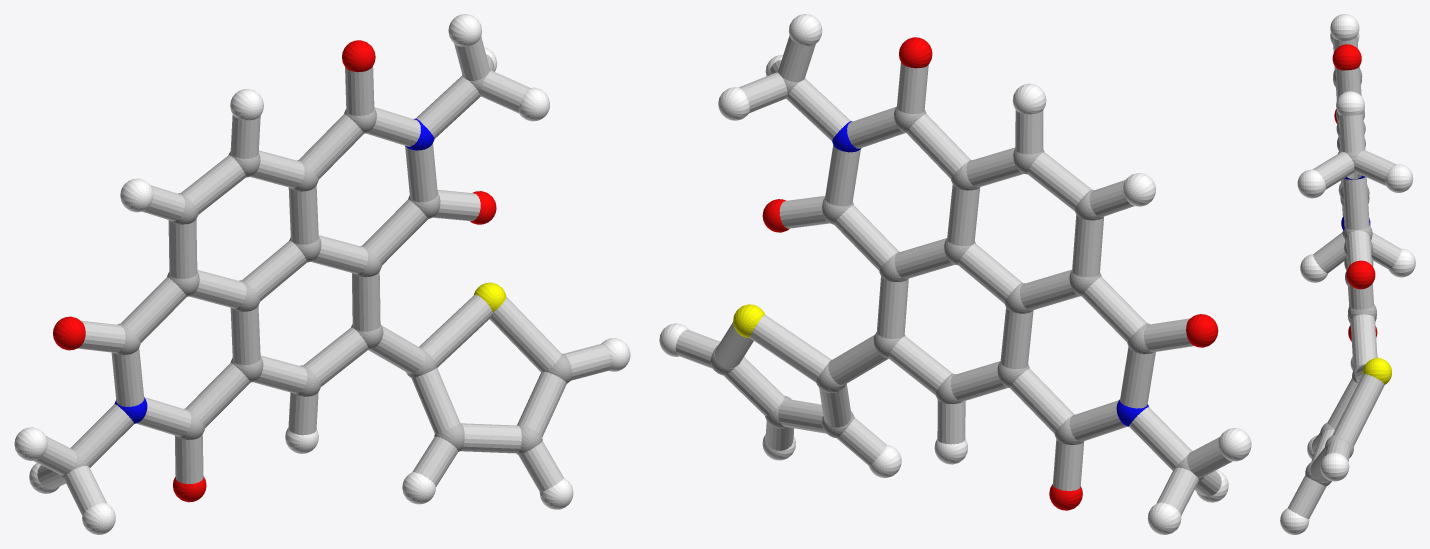
File: color.glb
3 views of the same model, side by side, from view 1: azimuth 30°, elevation 25°; view 2: azimuth 150°, elevation 25°; view 3: azimuth 270°, elevation 25° (orthographic). The views are drawn at different scales.
Parts seen in each view (by area): view 1: grp14119, grp7241, grp1, grp12309, grp11585; view 2: grp14119, grp7241, grp1, grp12309, grp11585, grp13757; view 3: grp14119, grp7241, grp1, grp12309, grp13757.
Part boxes in pixels (box(x1,y1,x2,y2)): grp14119: box(33, 36, 611, 515); grp7241: box(14, 14, 630, 534); grp1: box(59, 68, 572, 479); grp12309: box(53, 40, 496, 502); grp11585: box(114, 118, 434, 423); grp14119: box(675, 36, 1232, 515); grp7241: box(659, 14, 1251, 534); grp1: box(710, 69, 1203, 482); grp12309: box(762, 37, 1218, 510); grp11585: box(832, 121, 1148, 426); grp13757: box(733, 304, 764, 337); grp14119: box(1288, 36, 1401, 518); grp7241: box(1280, 14, 1415, 534); grp1: box(1305, 69, 1376, 486); grp12309: box(1332, 44, 1377, 341); grp13757: box(1363, 358, 1391, 384).
Bounding box in the file's own units: 12.32 × 9.5 × 2.8.
